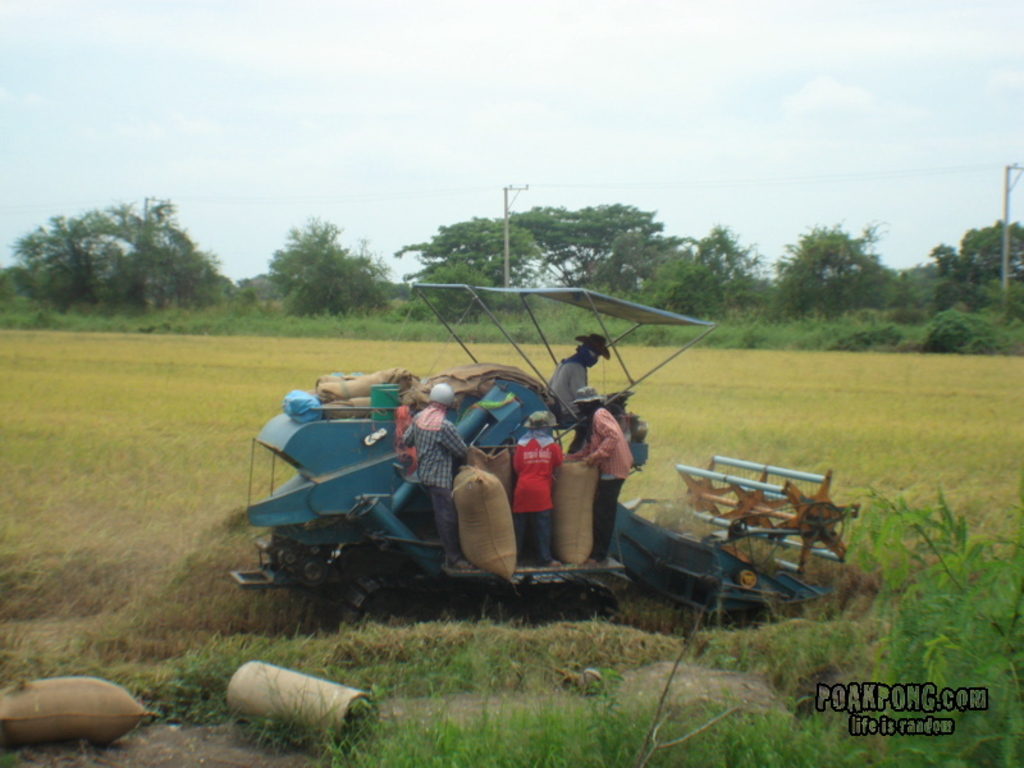Person: (401, 332, 632, 566)
